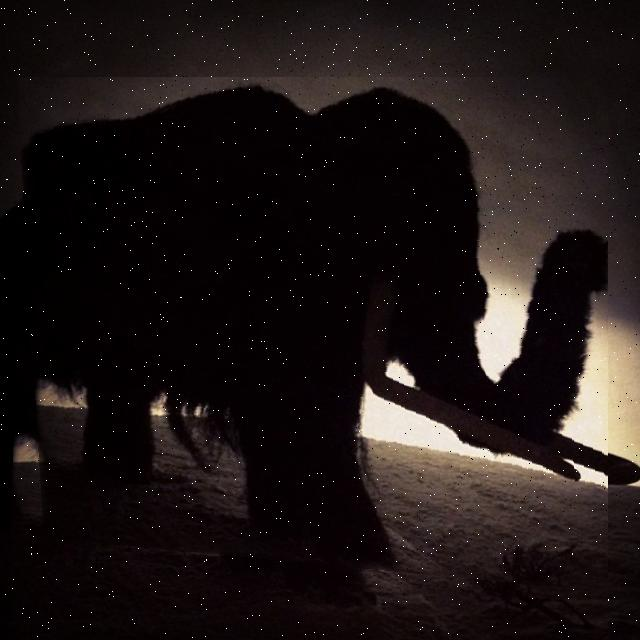elephant: (13, 77, 608, 595)
